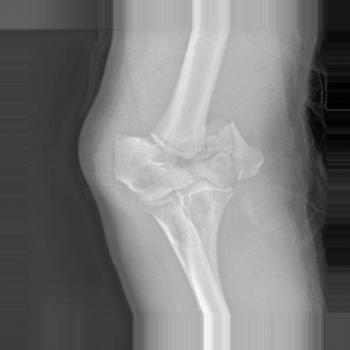Fracture: (202, 109, 242, 148)
